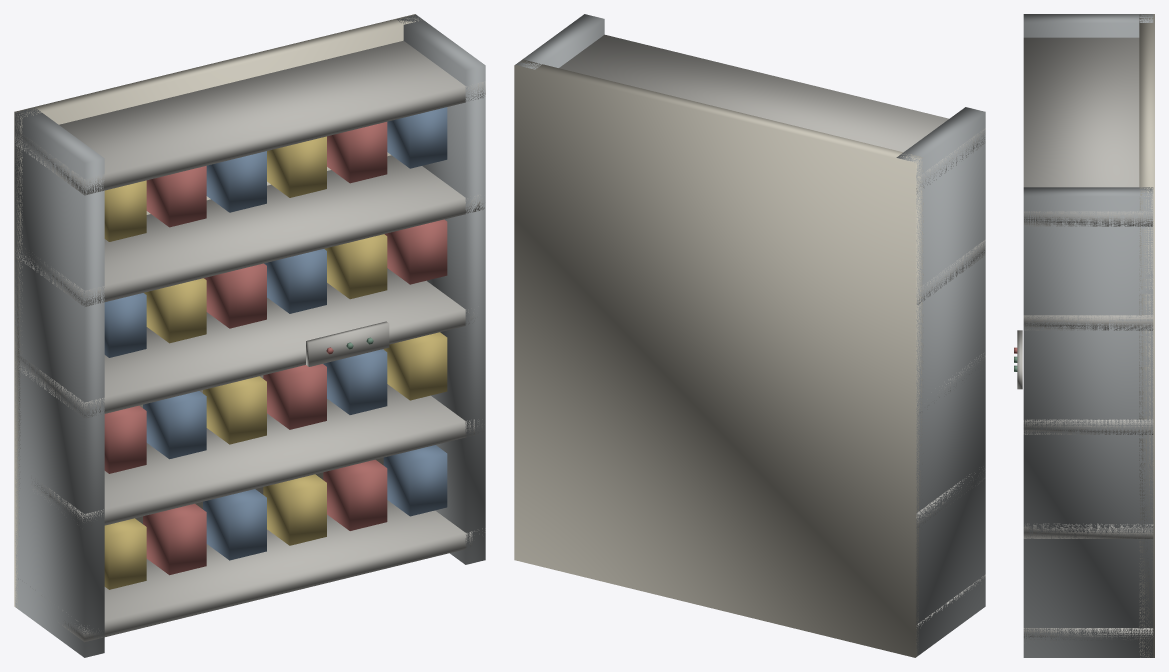
File: retail_gondola.glb
3 renders of one model, left to right at view 1: azimuth 30°, elevation 25°; view 2: azimuth 150°, elevation 25°; view 3: azimuth 270°, elevation 25°, orthographic. The views are drawn at different scales.
Parts seen in each view (by area): view 1: world; view 2: world; view 3: world.
Boxes of the visible parts, x1,y1,x2,y2 form: world: (14,14,485,657); world: (514,14,985,657); world: (1014,14,1154,657).
Size of the model in its own units: 1.4 by 1.65 by 0.456.
